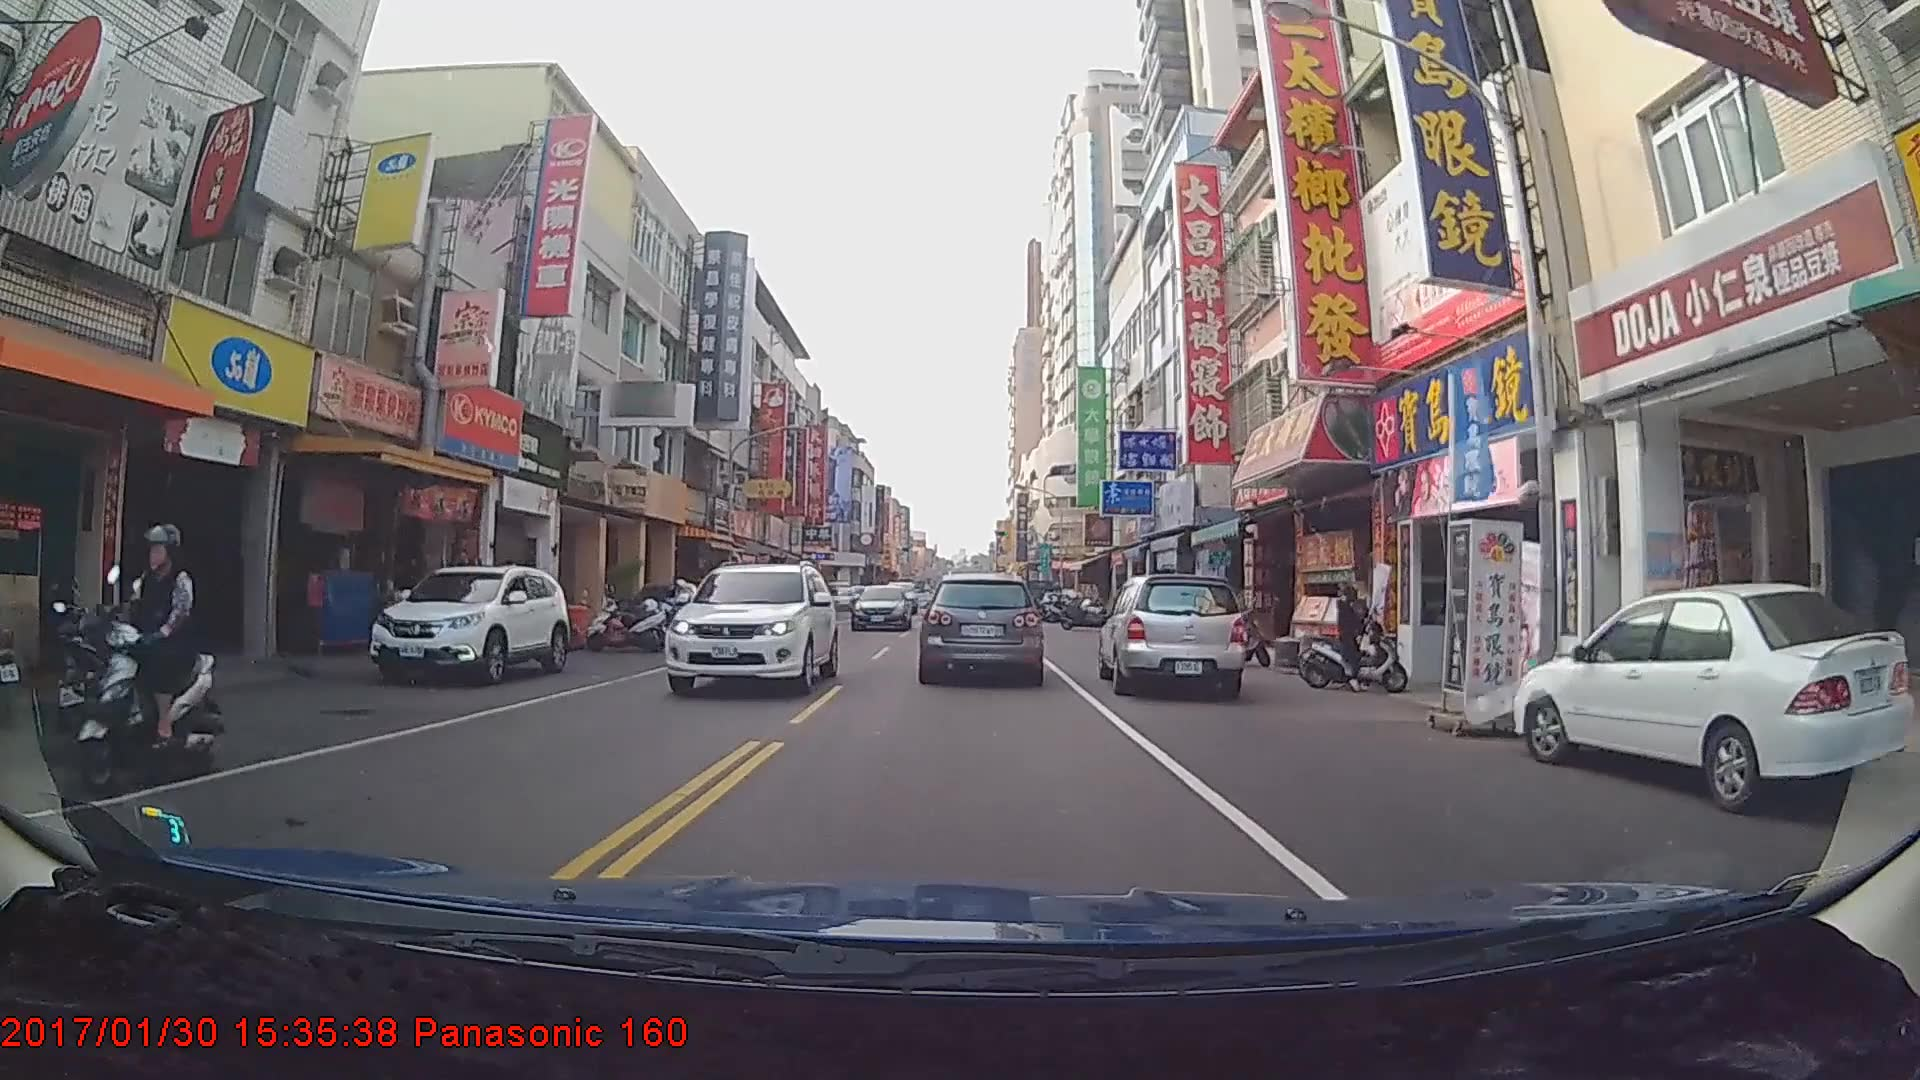rider: (67, 522, 221, 796), (1298, 576, 1415, 697)
vehicle: (1509, 580, 1912, 816), (363, 559, 572, 687), (662, 560, 839, 697), (1096, 569, 1247, 700), (921, 572, 1043, 682), (849, 582, 913, 631)
